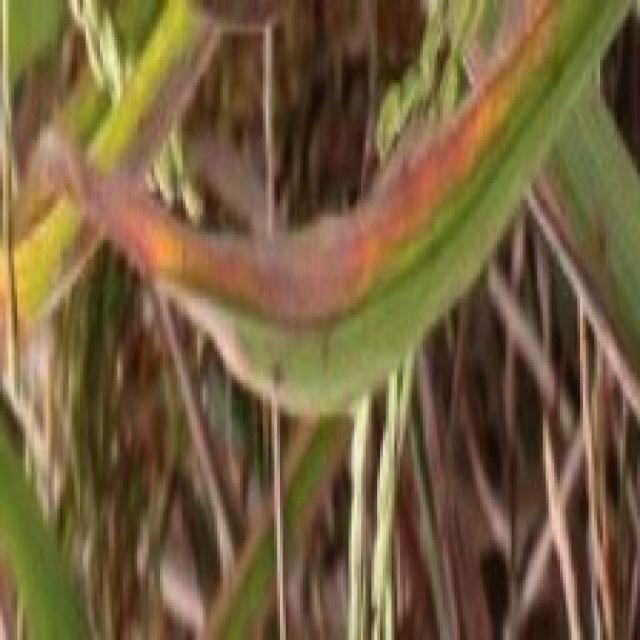Unhealthy: (29, 0, 557, 325), (421, 0, 640, 423), (52, 26, 224, 300), (0, 282, 33, 372)
